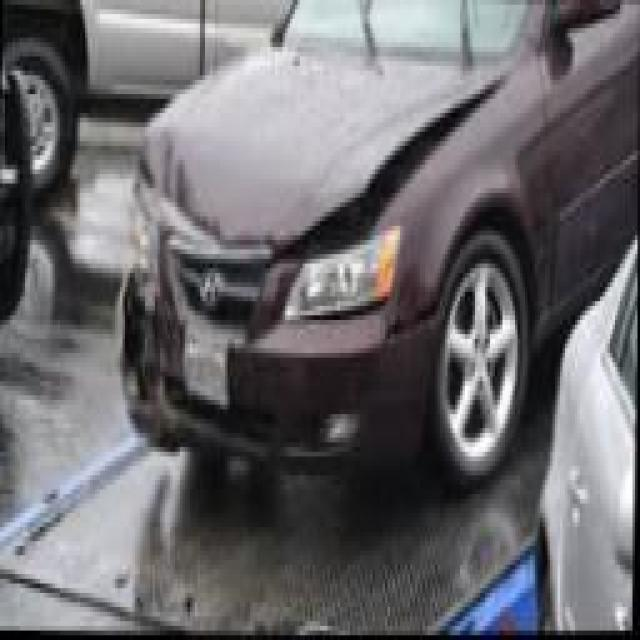Bonnet: (135, 37, 510, 266)
Bumper: (115, 266, 243, 449)
